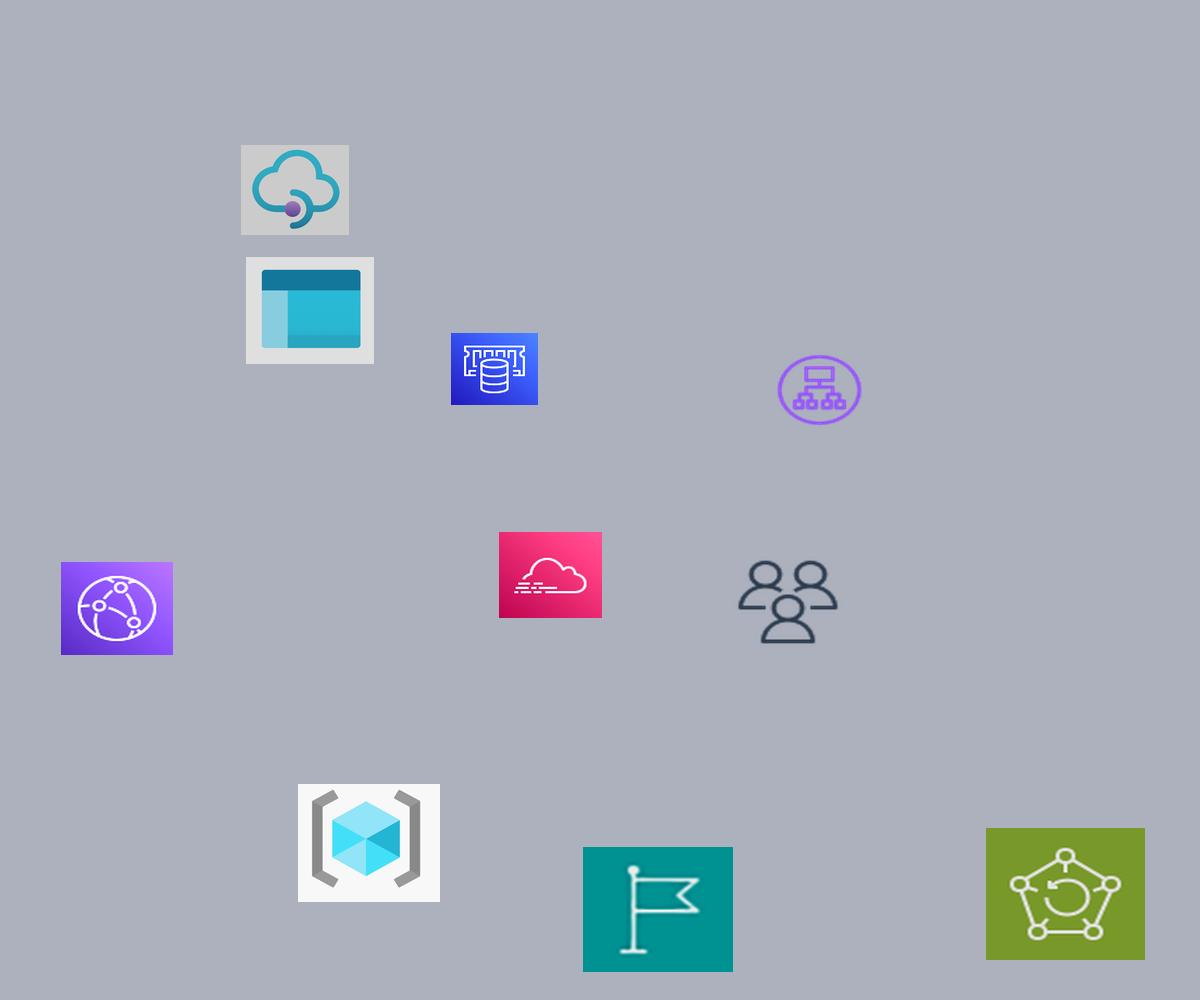AWS-Backup: (986, 828, 1145, 960)
AWS-CloudFront: (61, 562, 173, 655)
AWS-CloudTrail: (499, 532, 602, 618)
AWS-ElastiCache: (451, 333, 538, 405)
AWS-Region: (583, 847, 733, 972)
AWS-Res_Elastic-Load-Balancing_Application-Load-Balancer: (774, 352, 865, 428)
AWS-Res_Users: (734, 557, 842, 647)
Azure_api_gateway: (241, 145, 349, 235)
Azure_management-portal: (246, 257, 374, 364)
Azure_resource_group: (298, 784, 440, 902)
